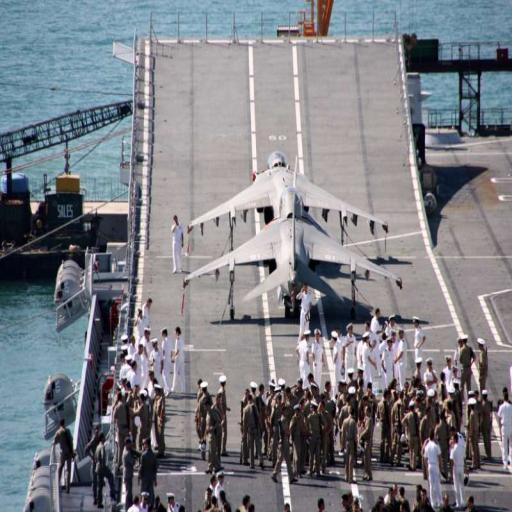Portanaves: (57, 9, 466, 499)
